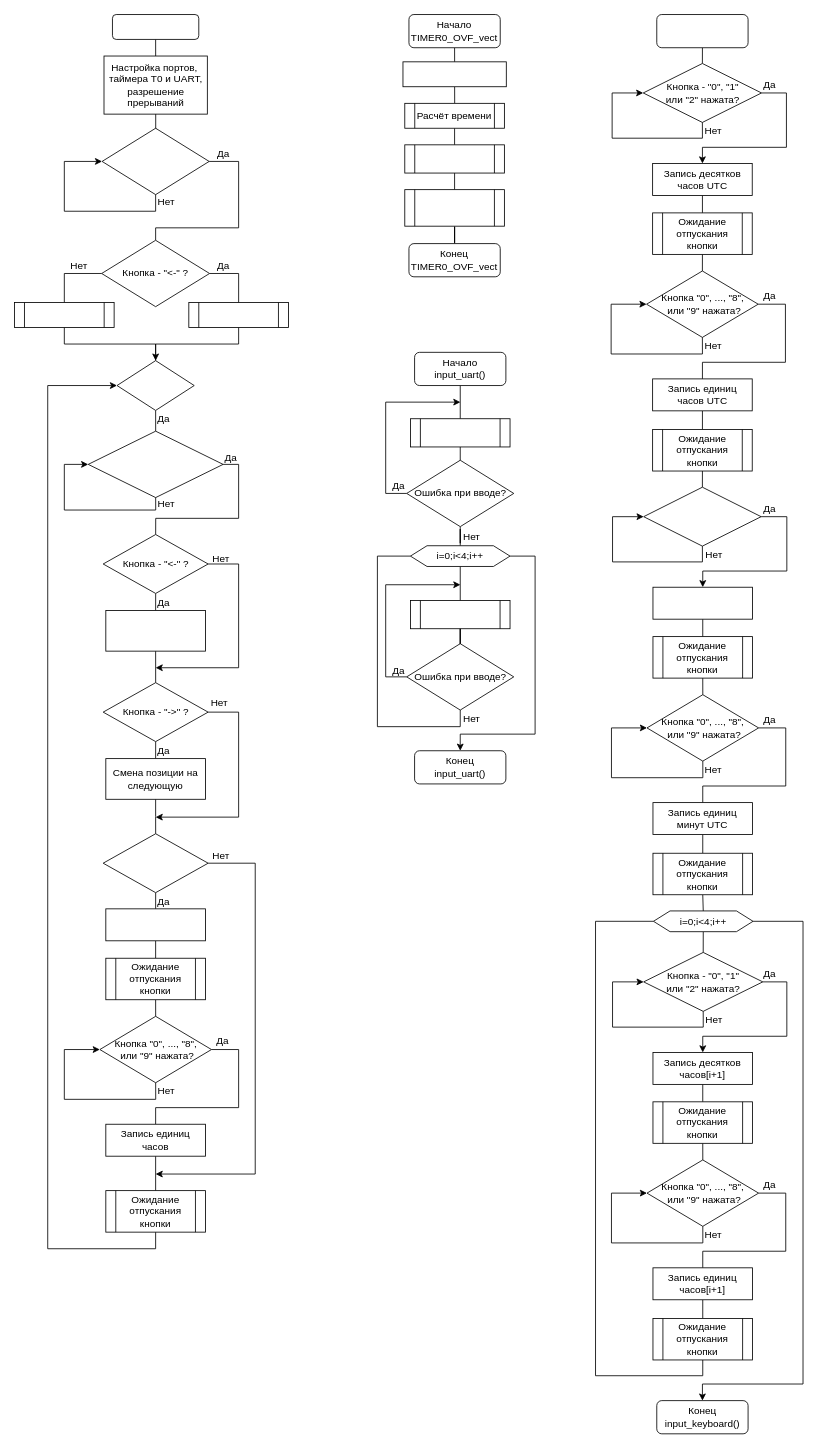
Some shapes in this 824 by 1448 pixel diagram are drawn without their labels. The centre of each missing label's shape, as x and y in pixels:
input_keyboard(): point (238, 314)
input_uart(): point (64, 314)
TCNT0=248: point (454, 74)
TRUE: point (155, 385)
Ввод часов и минут UTC: point (460, 432)
Ввод часов[i+1]: point (460, 614)
Вывод на индикаторы: point (454, 158)
Запись десятков минут UTC: point (702, 602)
Запись десятков часов: point (155, 924)
Кнопка "->" или "<-" нажата?: point (155, 161)
Кнопка "0", "1", "2", "->" или "<-" нажата?: point (155, 464)
Кнопка "0", ..., "4", или "5" нажата?: point (702, 516)
Кнопка - "0", "1" или "2" ?: point (155, 863)
Начало: point (155, 26)
Начало input_keyboard(): point (702, 31)
Проверка матричной клавиатуры: point (454, 207)
Смена позиции на предыдущую: point (155, 630)
